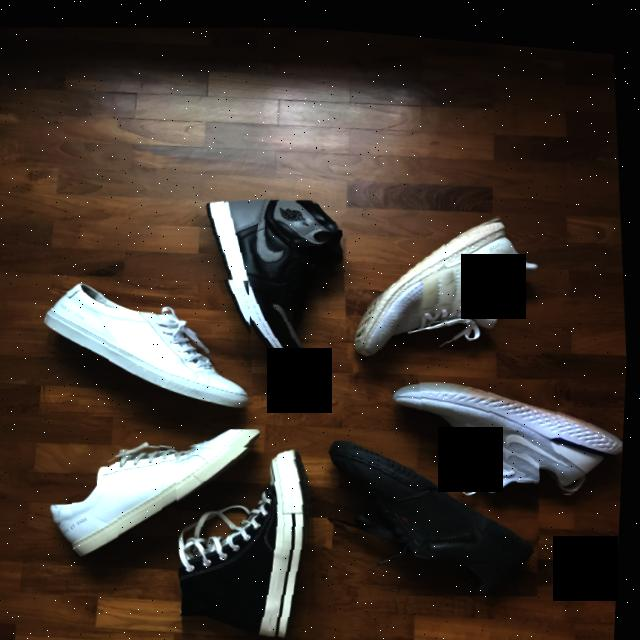shoe: (320, 416, 556, 604), (32, 258, 262, 425), (45, 408, 275, 575), (384, 350, 629, 505), (338, 189, 550, 365), (195, 175, 362, 378), (171, 431, 331, 640)
